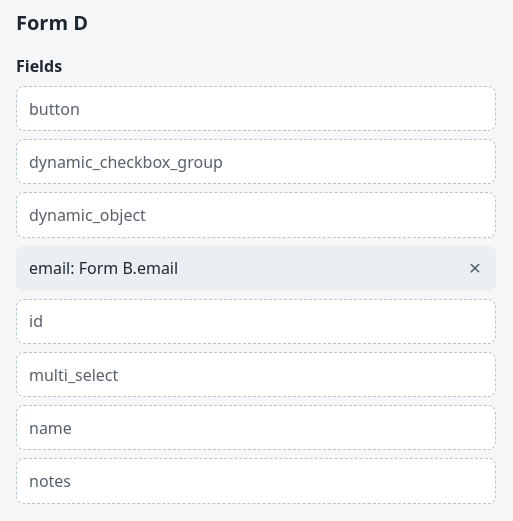
Test: PrefillPanel › returns row to unmapped state when its clear button is clicked
Click the button named "Clear mapping for email". click: (475, 268)
box: [463, 256, 487, 280]
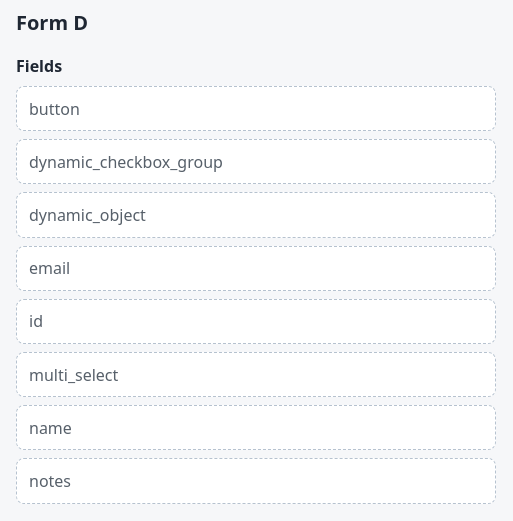
Expected: the button "email" is shown, [16, 246, 496, 291]
Now the text "email: Form B.email" is gone
